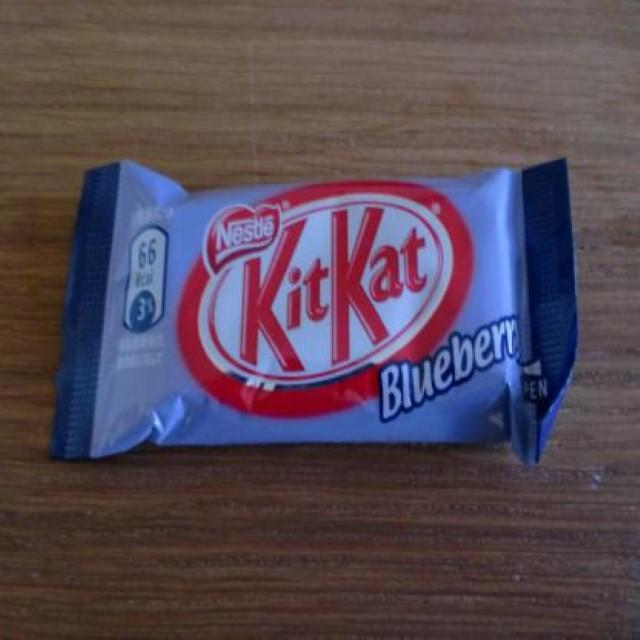kitkat_chocolate: (71, 155, 552, 452)
